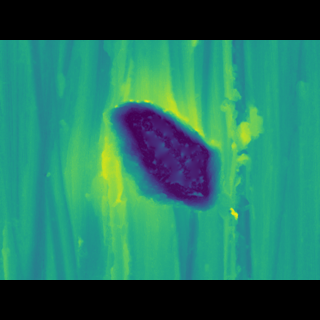Loch: (0, 68, 83, 250), (99, 112, 233, 200), (222, 69, 262, 249)
